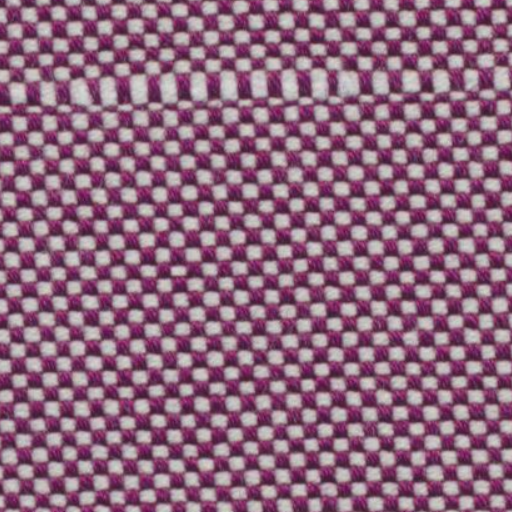DaiSha: (8, 56, 488, 118)
